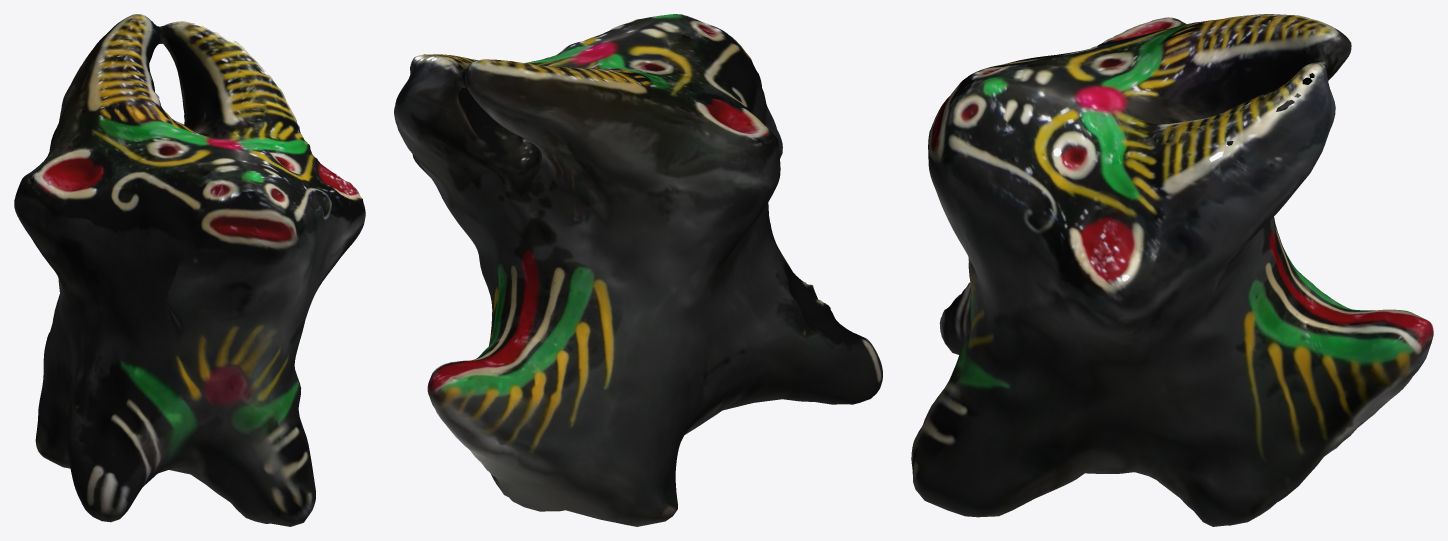
3 renders of one model, left to right at view 1: azimuth 30°, elevation 25°; view 2: azimuth 150°, elevation 25°; view 3: azimuth 270°, elevation 25°, orthographic. The views are drawn at different scales.
Size of the model in its own units: 0.4369 by 0.5174 by 0.486.
1 material, 1 textured.
